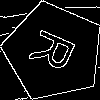R: (28, 26, 86, 78)
